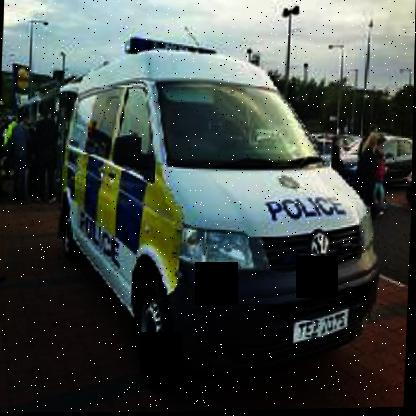emergency: (39, 33, 414, 369)
